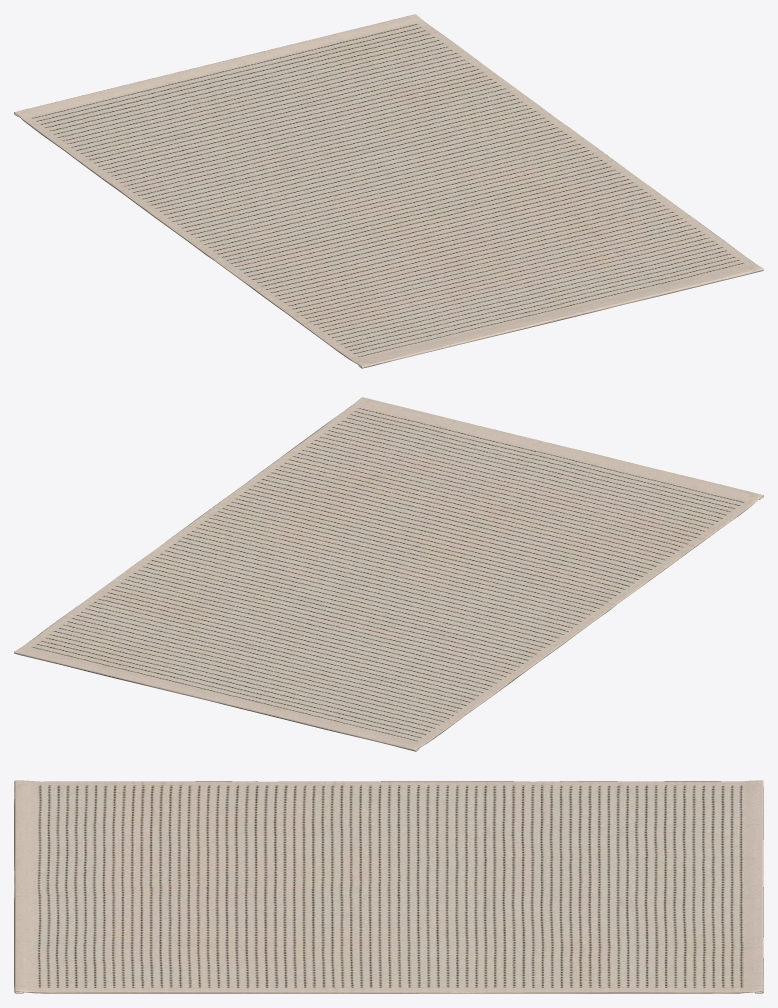
The picture shows the model from 3 angles, top to bottom: view 1: azimuth 30°, elevation 25°; view 2: azimuth 150°, elevation 25°; view 3: azimuth 270°, elevation 25°; orthographic projection. The views are drawn at different scales.
Parts seen in each view (by area): view 1: ASY_ART_20569133_S01_NV01.001; view 2: ASY_ART_20569133_S01_NV01.001; view 3: ASY_ART_20569133_S01_NV01.001.
Part boxes in pixels (bbox=[...]): ASY_ART_20569133_S01_NV01.001: bbox=[14, 14, 763, 368]; ASY_ART_20569133_S01_NV01.001: bbox=[14, 397, 763, 751]; ASY_ART_20569133_S01_NV01.001: bbox=[14, 780, 763, 993].
Size of the model in its own units: 1.2 by 0.00791 by 1.8.
1 material, 1 textured.
